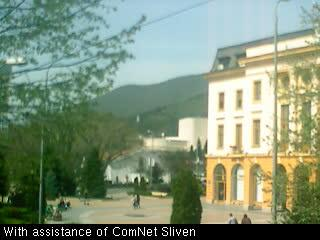person: (227, 212, 238, 224), (240, 213, 252, 224), (136, 192, 141, 209), (63, 199, 69, 210), (132, 196, 137, 208)
